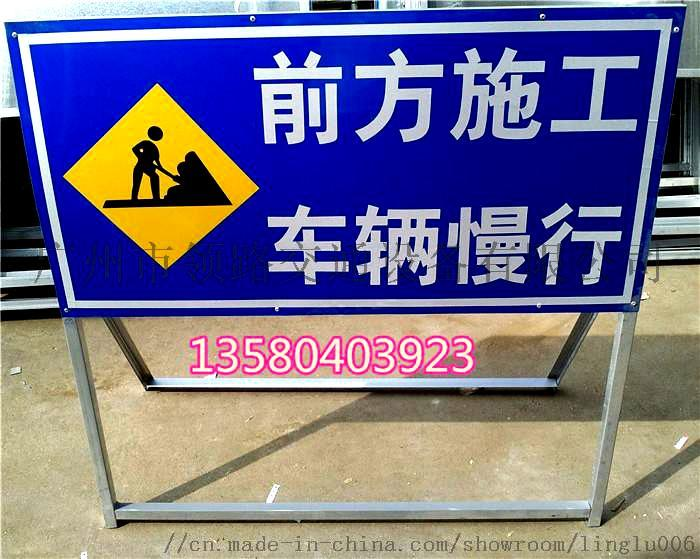sign: (33, 16, 670, 308)
